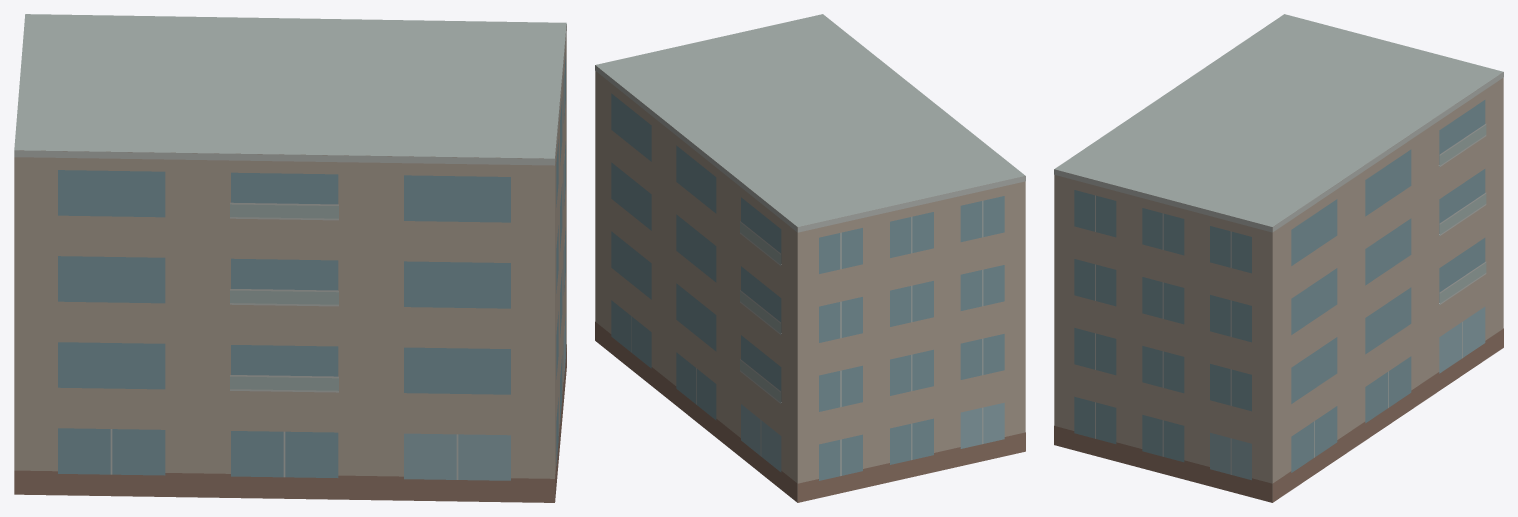
The model's file is survey-upis-32795030.glb.
3 renders of one model, left to right at view 1: azimuth 30°, elevation 25°; view 2: azimuth 150°, elevation 25°; view 3: azimuth 270°, elevation 25°, orthographic. The views are drawn at different scales.
Visible parts, largest first — view 1: survey-upis-32795030.tmp; view 2: survey-upis-32795030.tmp; view 3: survey-upis-32795030.tmp.
Boxes of the visible parts, box(x1,y1,x2,y2) form: survey-upis-32795030.tmp: box(14, 14, 566, 502); survey-upis-32795030.tmp: box(595, 14, 1025, 502); survey-upis-32795030.tmp: box(1054, 14, 1503, 502).
Size of the model in its own units: 20.23 by 12.2 by 18.03.
